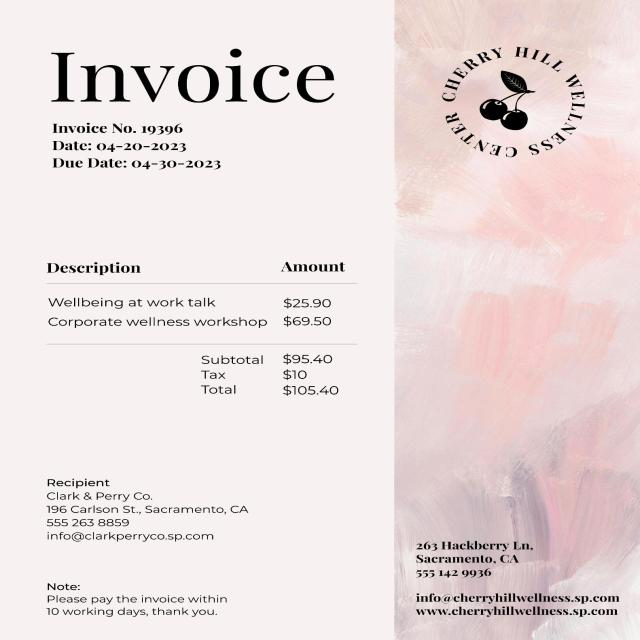paragraph: (30, 237, 362, 343), (427, 21, 605, 188), (31, 28, 352, 108), (403, 526, 631, 625), (35, 468, 266, 562), (30, 117, 287, 185), (38, 573, 256, 630), (186, 348, 357, 412)
